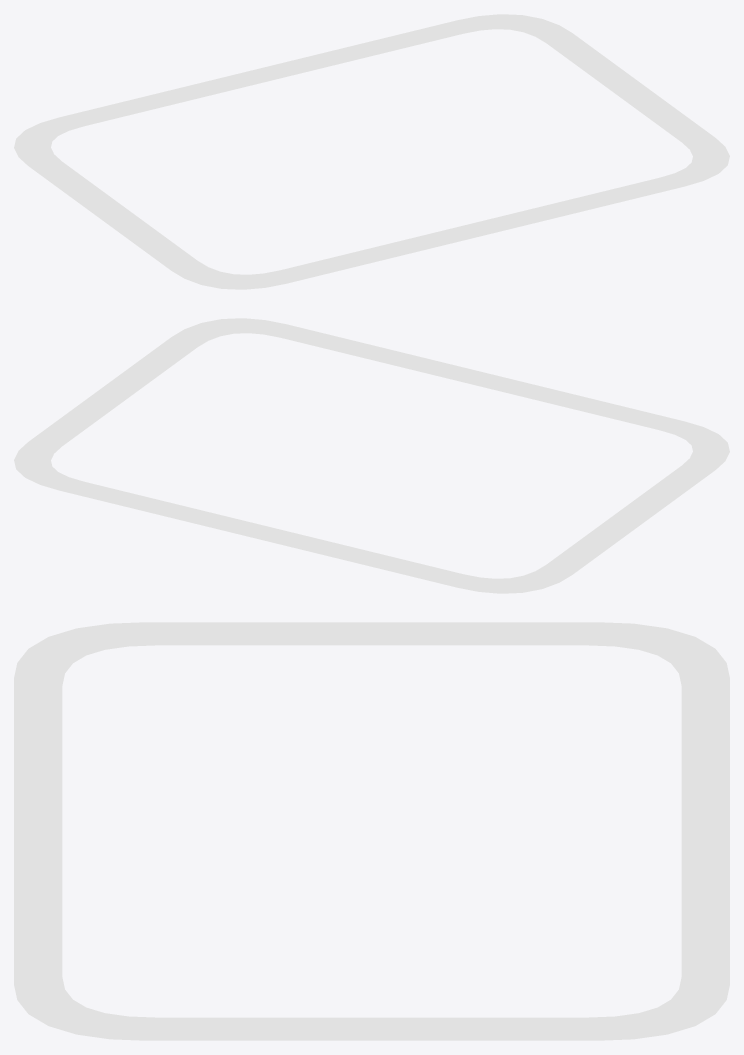
The model's file is CanBox_Shadow.fbx.
3 renders of one model, top to bottom at view 1: azimuth 30°, elevation 25°; view 2: azimuth 150°, elevation 25°; view 3: azimuth 270°, elevation 25°, orthographic. The views are drawn at different scales.
Parts seen in each view (by area): view 1: CanBox_Shadow; view 2: CanBox_Shadow; view 3: CanBox_Shadow.
Part boxes in pixels (<box>): CanBox_Shadow: <box>14,14,729,289</box>; CanBox_Shadow: <box>14,318,729,593</box>; CanBox_Shadow: <box>14,622,729,1040</box>.
Bounding box in the file's own units: 310 × 9.81e-06 × 224.
Materials: 1 (1 with a texture image).
